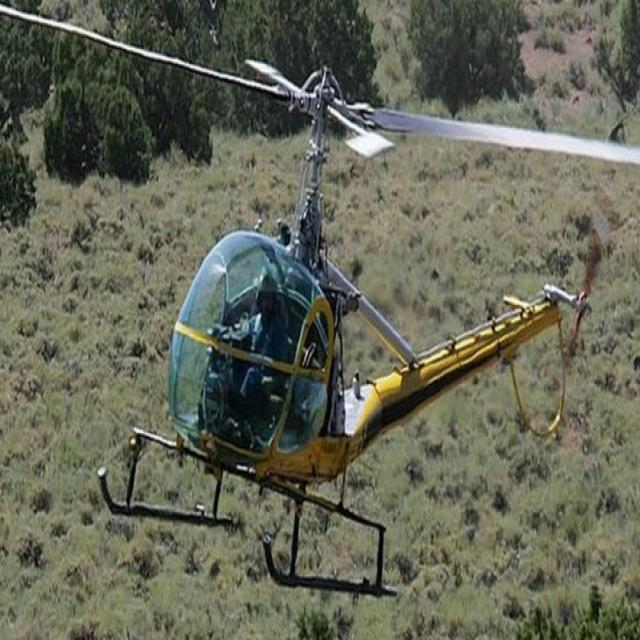helicopter: (81, 60, 607, 621)
